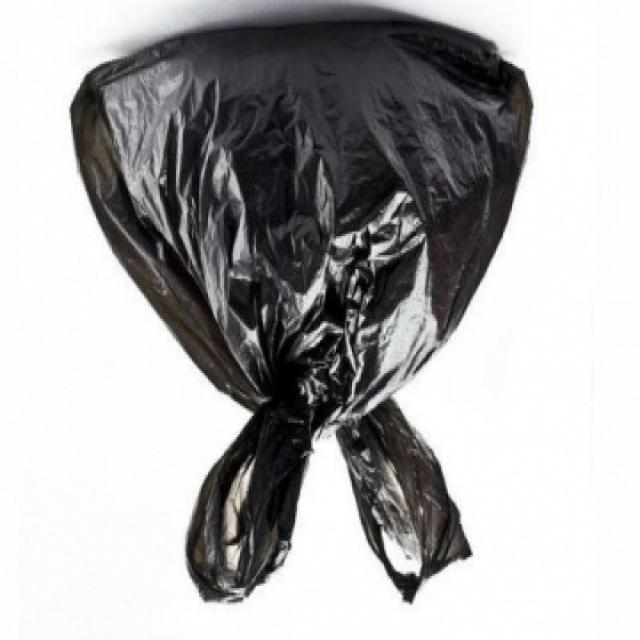Vinyl: (59, 8, 535, 610)
